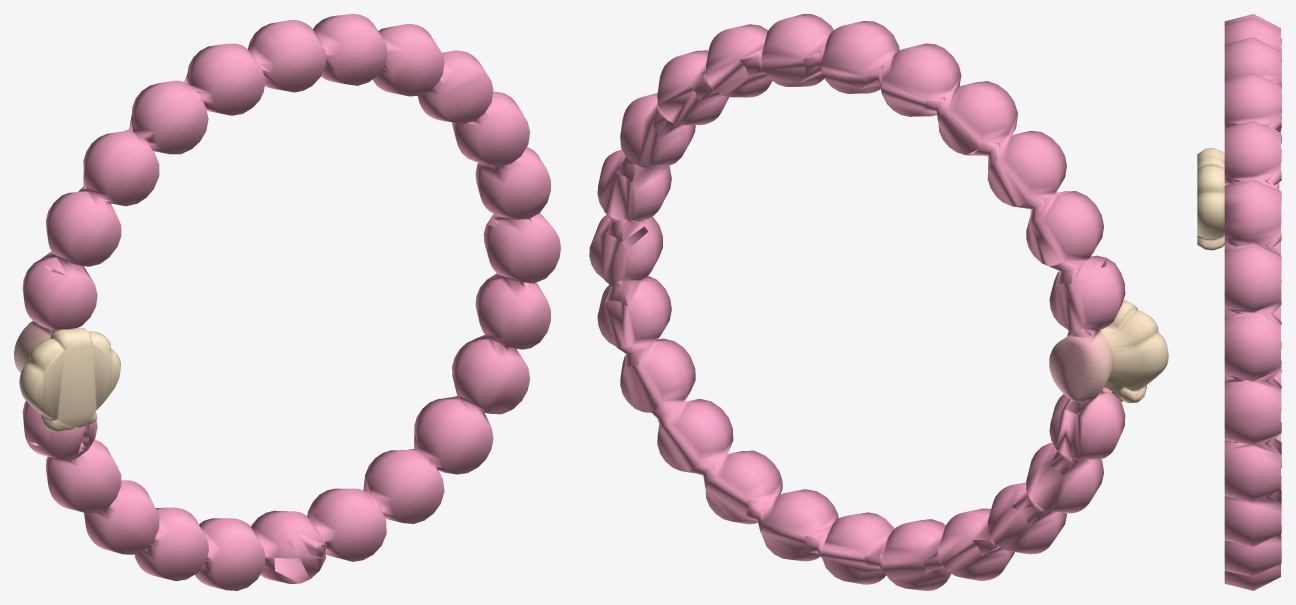
The model's file is naia-bracelet.fbx.
3 renders of one model, left to right at view 1: azimuth 30°, elevation 25°; view 2: azimuth 150°, elevation 25°; view 3: azimuth 270°, elevation 25°, orthographic. The views are drawn at different scales.
Visible parts, largest first — view 1: tripo_node_2742cb3e-f6d7-484e-ac88-064b8d10631a; view 2: tripo_node_2742cb3e-f6d7-484e-ac88-064b8d10631a; view 3: tripo_node_2742cb3e-f6d7-484e-ac88-064b8d10631a.
Part boxes in pixels (box(x1,y1,x2,y2)): tripo_node_2742cb3e-f6d7-484e-ac88-064b8d10631a: box(14, 14, 560, 590); tripo_node_2742cb3e-f6d7-484e-ac88-064b8d10631a: box(589, 14, 1168, 590); tripo_node_2742cb3e-f6d7-484e-ac88-064b8d10631a: box(1197, 14, 1281, 590).
Size of the model in its own units: 0.9995 by 0.9741 by 0.1421.
Materials: 1 (1 with a texture image).
